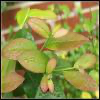Blueberry leaf: (45, 30, 90, 52), (62, 67, 99, 93), (16, 49, 51, 75), (1, 39, 39, 61), (1, 71, 26, 94), (74, 52, 97, 70), (45, 55, 61, 74), (46, 76, 56, 95)
